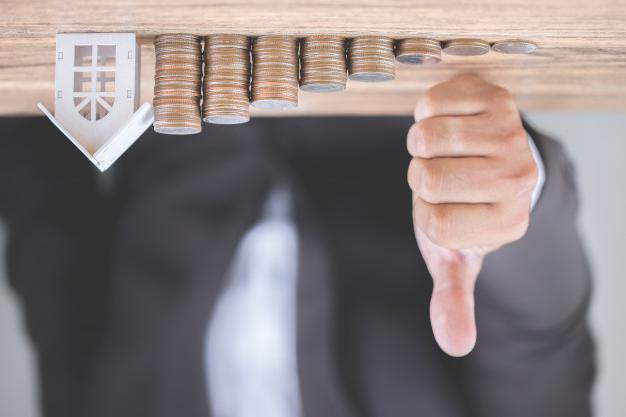thumbsdown: (406, 76, 538, 357)
